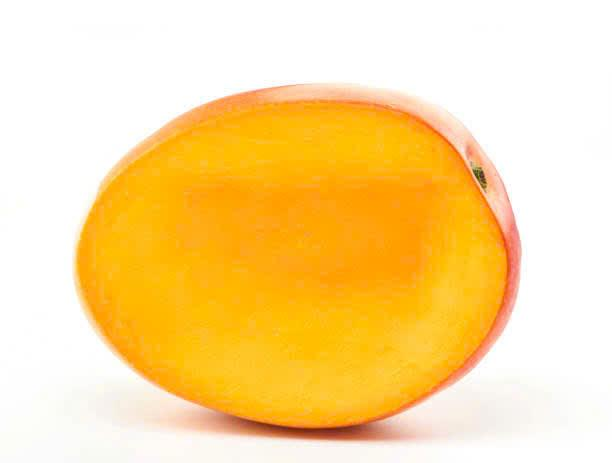mango: (64, 59, 523, 435)
